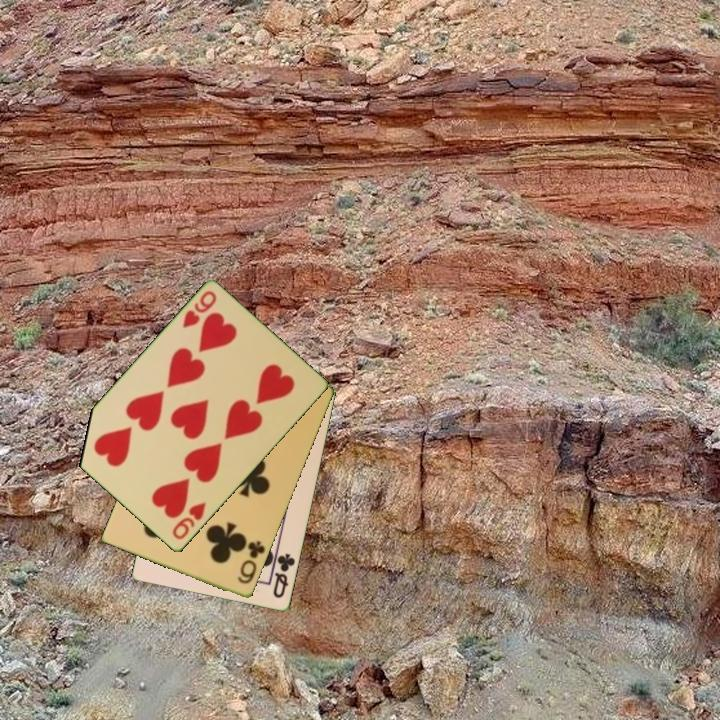6c: (234, 538, 268, 587)
9h: (179, 288, 220, 331), (169, 499, 209, 543)
Qc: (269, 550, 298, 601)
